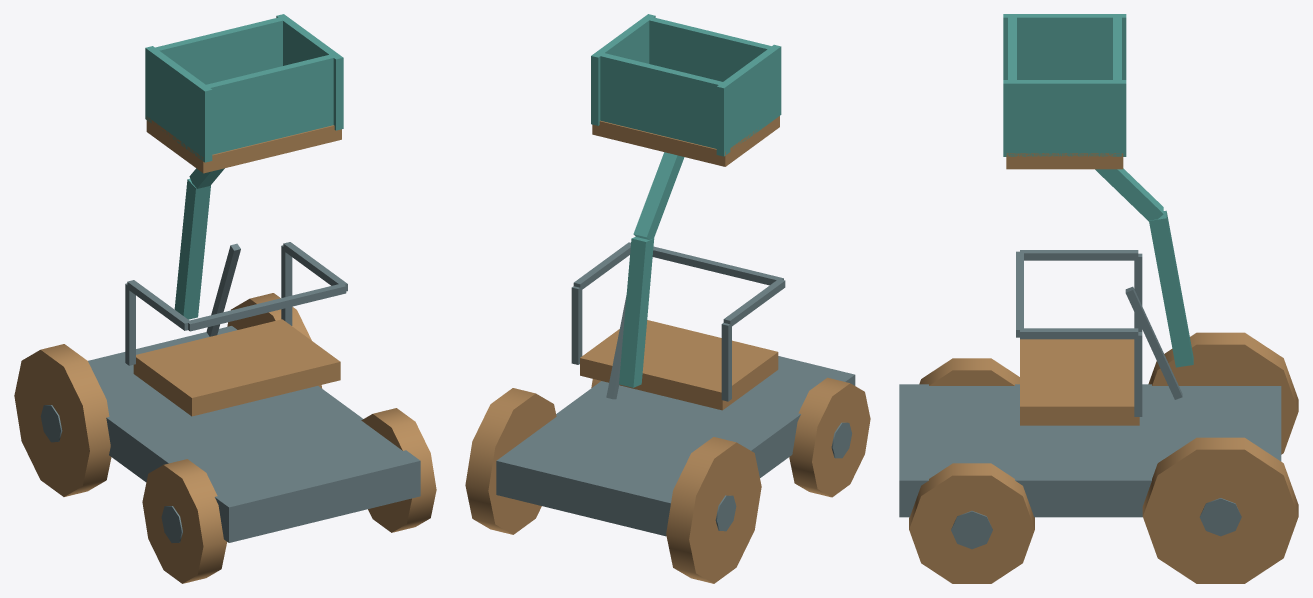
File: Orchard-Picker.glb
3 views of the same model, side by side, from view 1: azimuth 30°, elevation 25°; view 2: azimuth 150°, elevation 25°; view 3: azimuth 270°, elevation 25° (orthographic). The views are drawn at different scales.
Parts seen in each view (by area): view 1: orchard-picker-static-orchard-picker-iron-mat, orchard-picker-static-orchard-picker-paint-mat, orchard-picker-static-orchard-picker-wheel-mat, orchard-picker-static-orchard-picker-timber-mat, orchard-picker-static-orchard-picker-steel-mat; view 2: orchard-picker-static-orchard-picker-iron-mat, orchard-picker-static-orchard-picker-paint-mat, orchard-picker-static-orchard-picker-wheel-mat, orchard-picker-static-orchard-picker-timber-mat, orchard-picker-static-orchard-picker-steel-mat; view 3: orchard-picker-static-orchard-picker-wheel-mat, orchard-picker-static-orchard-picker-iron-mat, orchard-picker-static-orchard-picker-paint-mat, orchard-picker-static-orchard-picker-timber-mat, orchard-picker-static-orchard-picker-steel-mat.
Part boxes in pixels (left/top/right/bottom): orchard-picker-static-orchard-picker-iron-mat: left=88, top=242, right=420, bottom=542; orchard-picker-static-orchard-picker-paint-mat: left=145, top=14, right=343, bottom=319; orchard-picker-static-orchard-picker-wheel-mat: left=14, top=293, right=436, bottom=583; orchard-picker-static-orchard-picker-timber-mat: left=133, top=116, right=341, bottom=416; orchard-picker-static-orchard-picker-steel-mat: left=40, top=243, right=240, bottom=542; orchard-picker-static-orchard-picker-iron-mat: left=496, top=242, right=855, bottom=536; orchard-picker-static-orchard-picker-paint-mat: left=591, top=14, right=781, bottom=387; orchard-picker-static-orchard-picker-wheel-mat: left=465, top=377, right=870, bottom=583; orchard-picker-static-orchard-picker-timber-mat: left=580, top=116, right=779, bottom=410; orchard-picker-static-orchard-picker-steel-mat: left=606, top=295, right=852, bottom=531; orchard-picker-static-orchard-picker-wheel-mat: left=909, top=332, right=1298, bottom=583; orchard-picker-static-orchard-picker-iron-mat: left=899, top=250, right=1281, bottom=517; orchard-picker-static-orchard-picker-paint-mat: left=1003, top=14, right=1193, bottom=367; orchard-picker-static-orchard-picker-timber-mat: left=1006, top=153, right=1139, bottom=425; orchard-picker-static-orchard-picker-steel-mat: left=951, top=286, right=1241, bottom=549.
Size of the model in its own units: 1.87 by 3.51 by 2.66.
